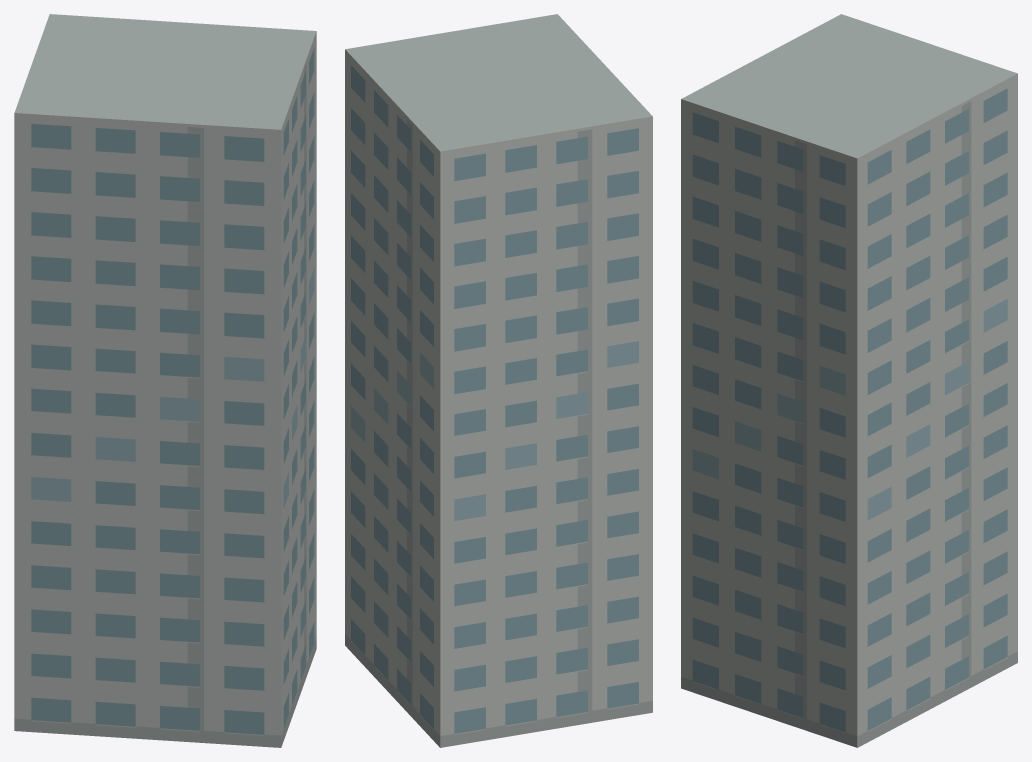
File: residential-ac4bb7f0-63c1-4ec5-8584-27dce776d127.glb
The picture shows the model from 3 angles, left to right: view 1: azimuth 30°, elevation 25°; view 2: azimuth 150°, elevation 25°; view 3: azimuth 270°, elevation 25°; orthographic projection. The views are drawn at different scales.
Visible parts, largest first — view 1: residential-ac4bb7f0-63c1-4ec5-8584-27dce776d127.tmp; view 2: residential-ac4bb7f0-63c1-4ec5-8584-27dce776d127.tmp; view 3: residential-ac4bb7f0-63c1-4ec5-8584-27dce776d127.tmp.
Boxes of the visible parts, <box> form: residential-ac4bb7f0-63c1-4ec5-8584-27dce776d127.tmp: <box>14,14,316,747</box>; residential-ac4bb7f0-63c1-4ec5-8584-27dce776d127.tmp: <box>345,14,652,747</box>; residential-ac4bb7f0-63c1-4ec5-8584-27dce776d127.tmp: <box>681,14,1017,747</box>.
Size of the model in its own units: 26.3 by 50 by 25.9.
